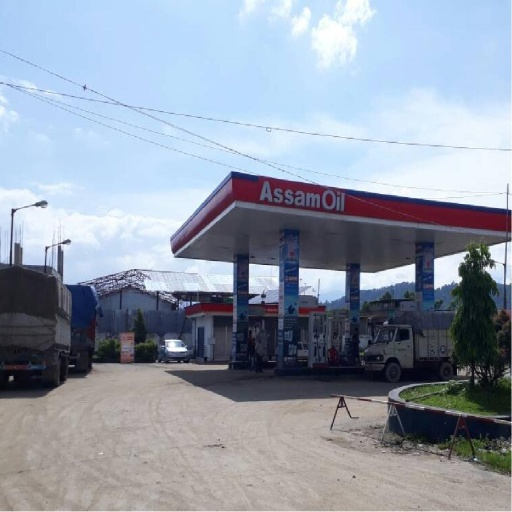roof: (171, 171, 512, 275)
